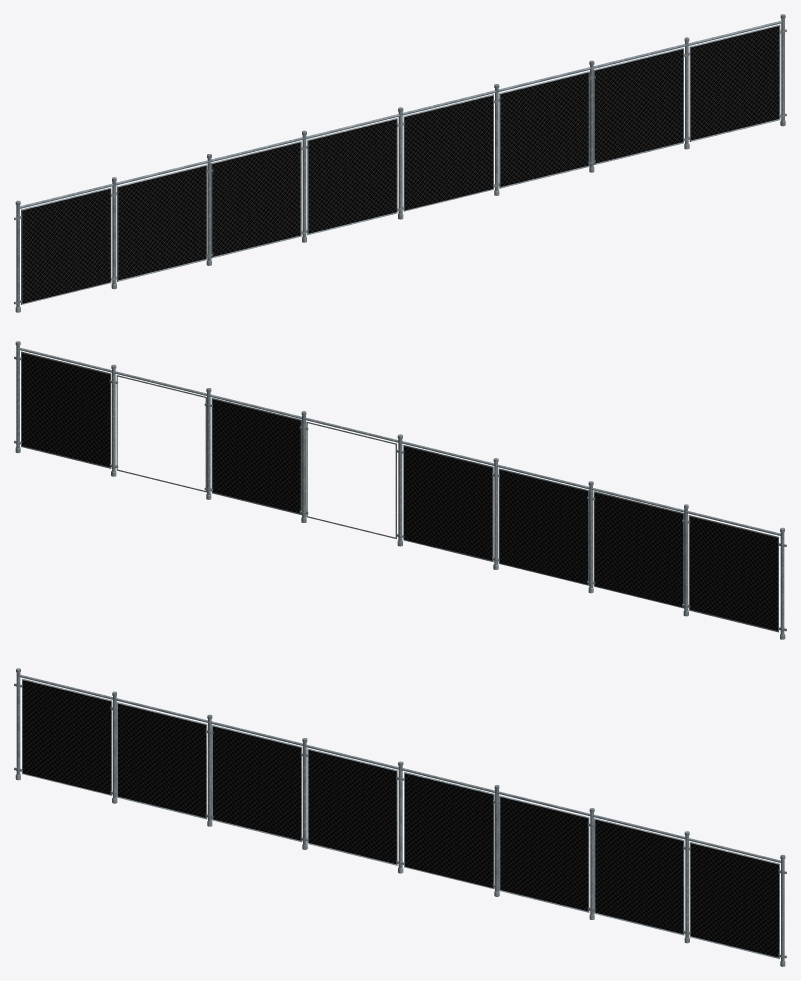
The model's file is fence4.glb.
The picture shows the model from 3 angles, top to bottom: view 1: azimuth 30°, elevation 25°; view 2: azimuth 150°, elevation 25°; view 3: azimuth 330°, elevation 25°; orthographic projection.
Parts seen in each view (by area): view 1: FenceMesh; view 2: FenceMesh; view 3: FenceMesh.
Boxes of the visible parts, bbox=[...] form: FenceMesh: bbox=[14, 14, 786, 312]; FenceMesh: bbox=[14, 341, 786, 639]; FenceMesh: bbox=[14, 668, 786, 966].
Bounding box in the file's own units: 93.43 × 12.71 × 0.6138.
Materials: 2 (2 with a texture image).
